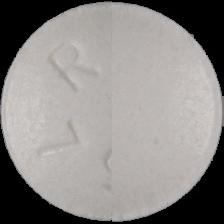63304-794: (0, 0, 224, 224)
